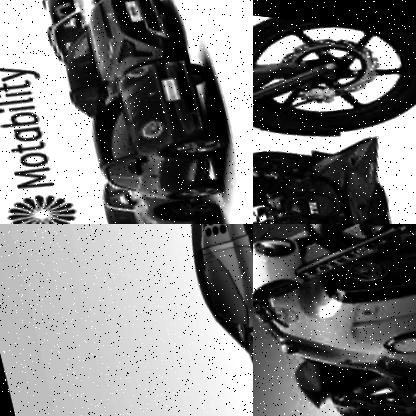bike: (253, 0, 416, 224), (253, 224, 416, 416)
car: (76, 38, 239, 212), (147, 224, 253, 416), (43, 0, 189, 115), (104, 176, 229, 224), (22, 0, 134, 26)
